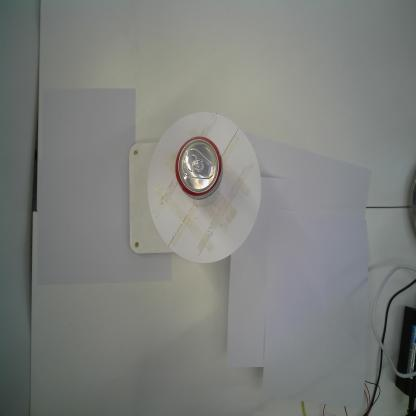Alcohol: (174, 135, 224, 201)
